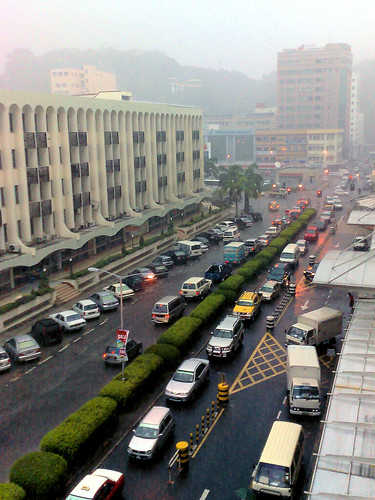building: (1, 106, 205, 300), (263, 51, 355, 169), (260, 126, 338, 169), (50, 66, 125, 92)
car: (122, 400, 179, 464), (165, 358, 211, 402), (205, 314, 247, 357), (98, 338, 135, 377), (152, 292, 187, 332), (8, 330, 45, 365), (52, 303, 88, 331), (28, 315, 60, 345), (231, 287, 264, 315), (179, 277, 214, 300), (220, 242, 253, 266), (87, 291, 120, 314), (76, 300, 103, 325), (105, 280, 134, 300), (204, 257, 229, 277)
truck: (280, 347, 333, 425), (286, 300, 343, 354)
